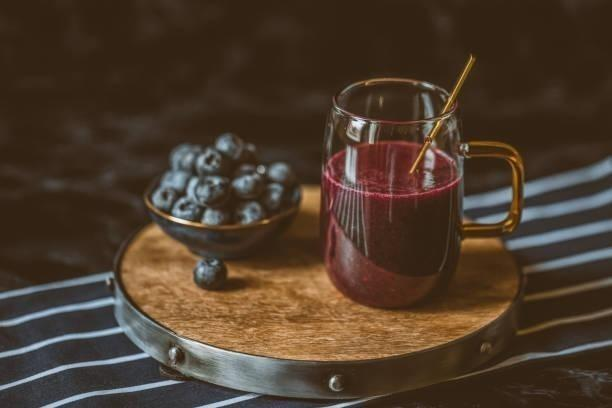glass-mug: (317, 74, 527, 313)
